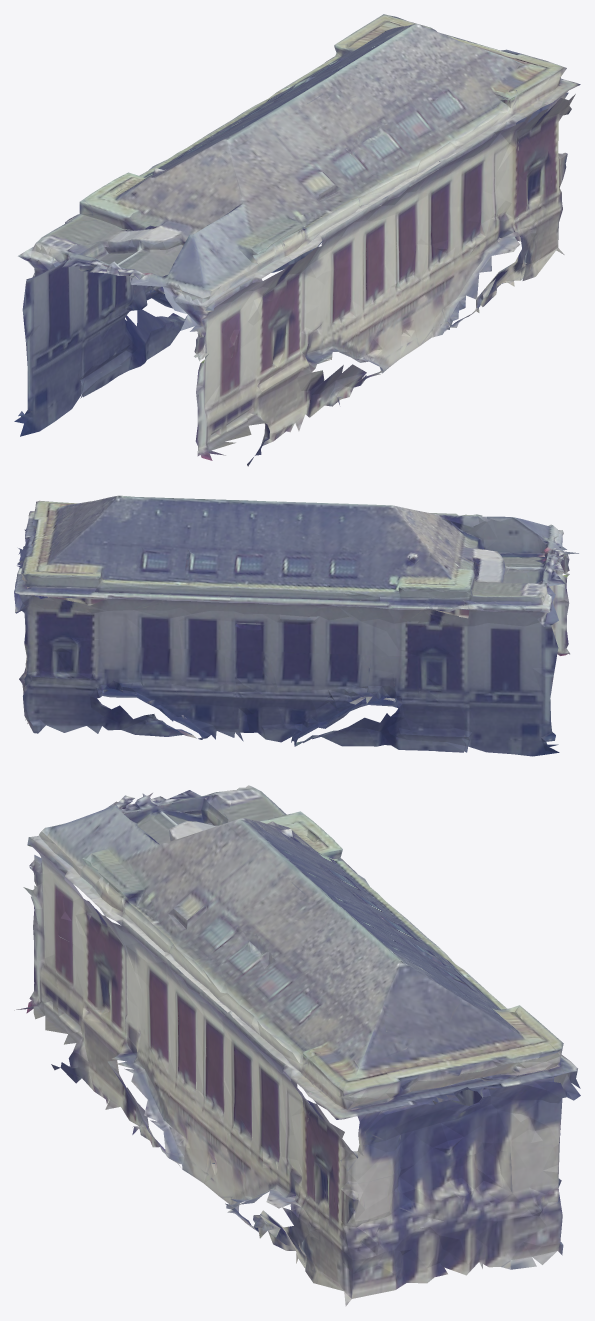
File: victoria-hall.glb
3 views of the same model, one above another, from view 1: azimuth 30°, elevation 25°; view 2: azimuth 150°, elevation 25°; view 3: azimuth 270°, elevation 25° (orthographic). The views are drawn at different scales.
Bounding box in the file's own units: 68.72 × 27.73 × 49.4.
Materials: 2 (2 with a texture image).
